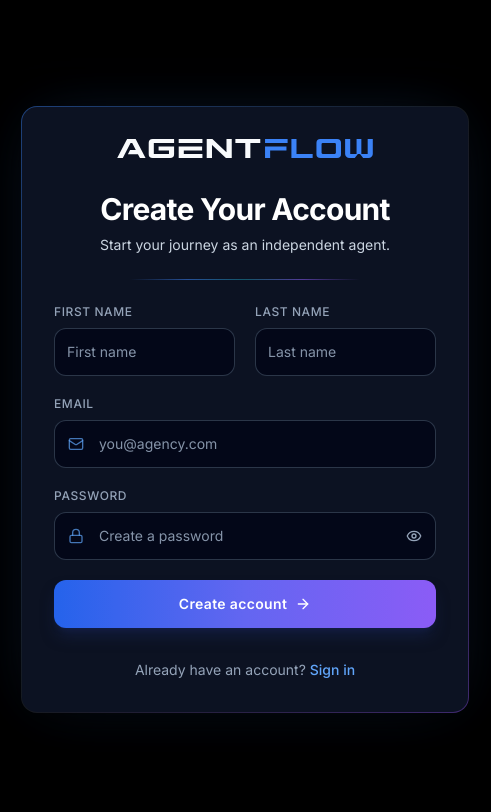
Test case: SignupPage (/signup) › password policy › flips every rule to met for a compliant password and unlocks the CTA
Type "Passw0rd" into the password field labelled "Password".
click(245, 536); type("Passw0rd")  # box [54, 512, 436, 560]
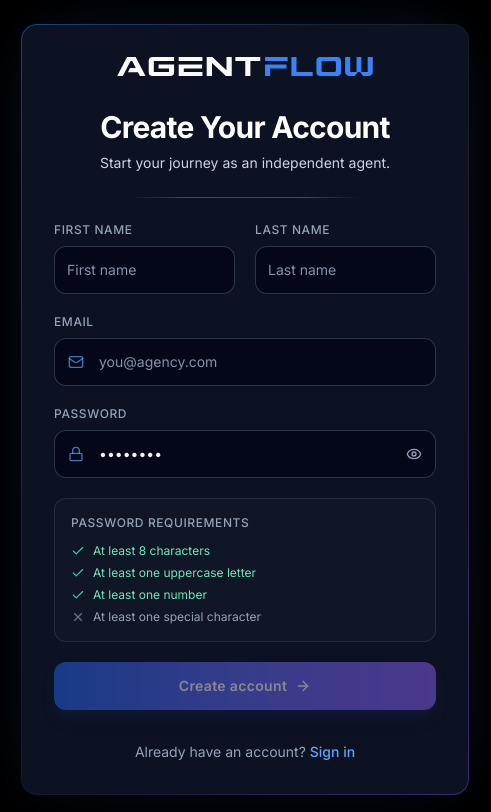
Expected: the button "Create account" is disabled, [54, 662, 436, 710]
Type "Passw0rd!" into the password field labelled "Password".
click(245, 454); type("Passw0rd!")  # box [54, 430, 436, 478]
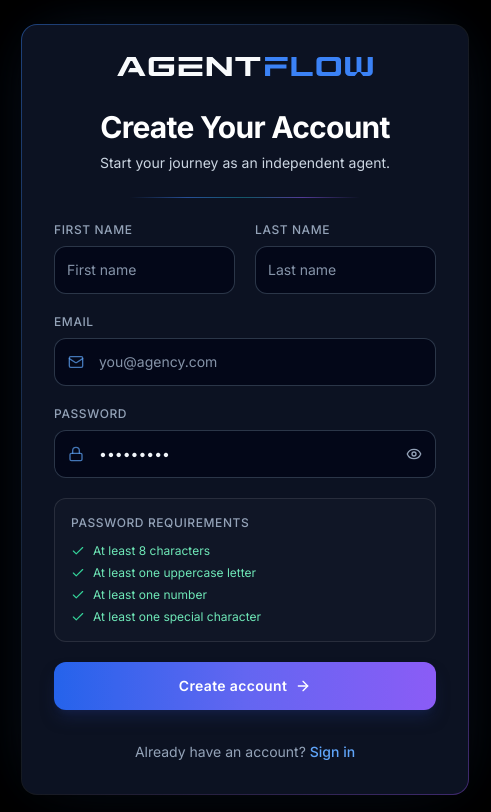
Expected: the text "At least 8 characters" does not show "not met"
Expected: the button "Create account" is enabled, [54, 662, 436, 710]
